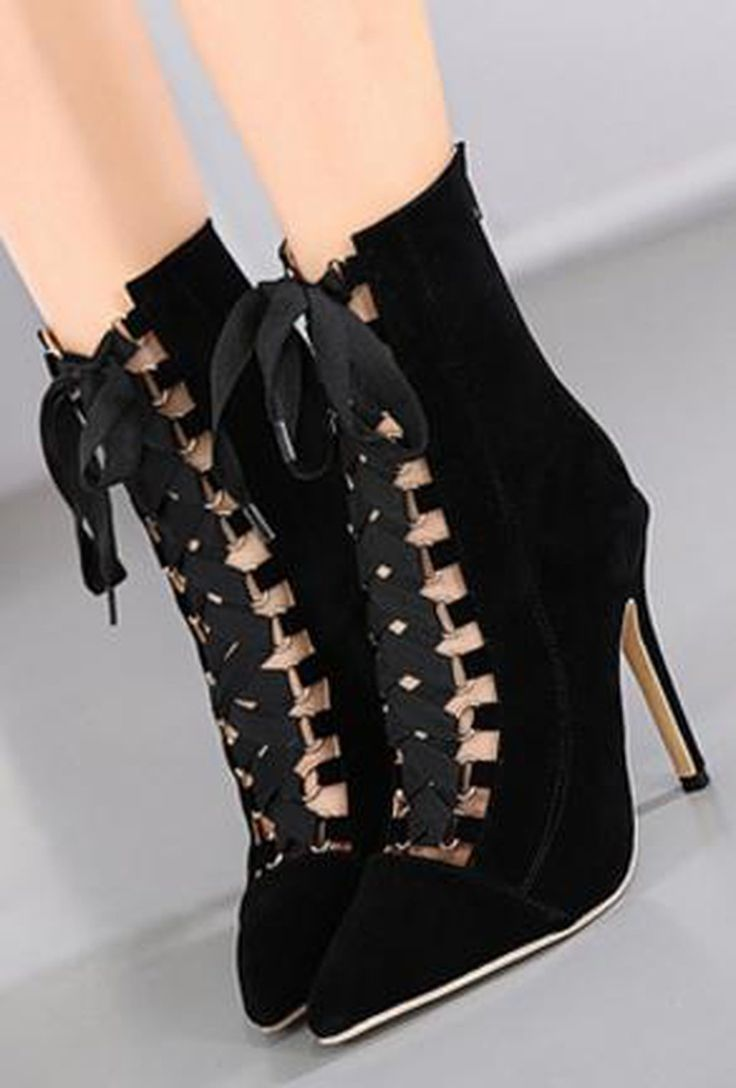gamuza: (45, 140, 654, 1039)
